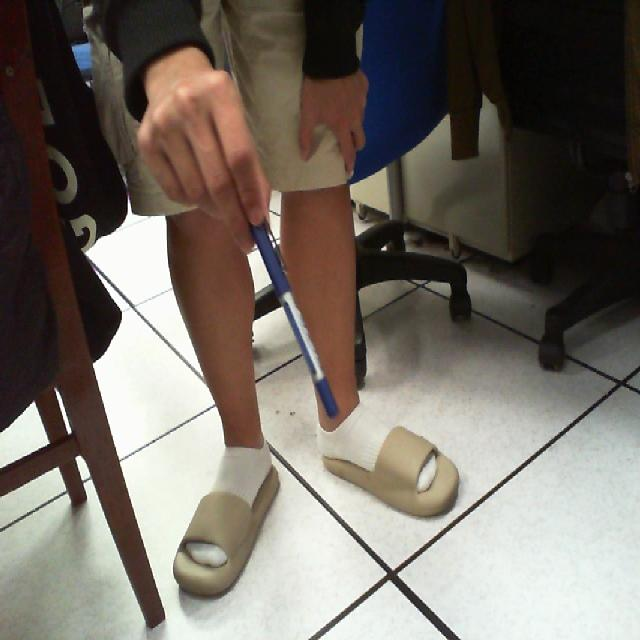Pen: (242, 188, 352, 432)
